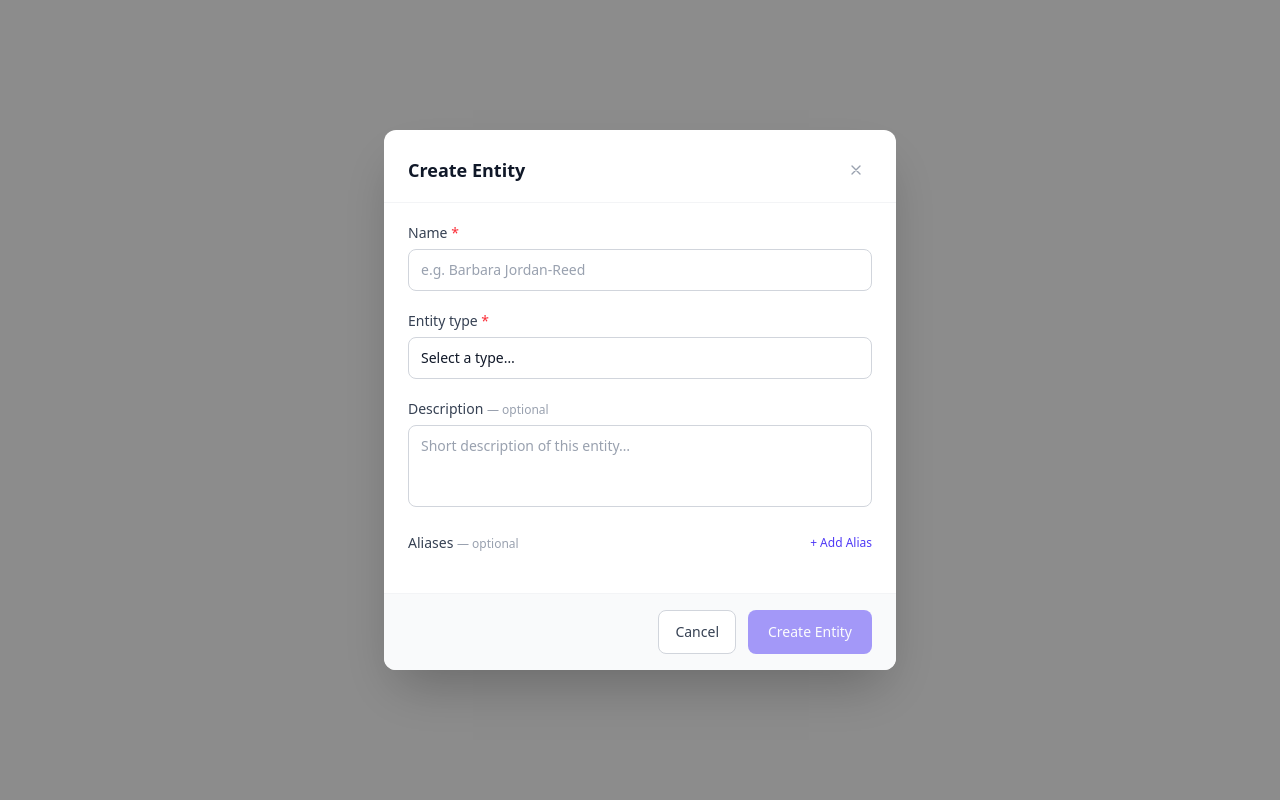
it: CreateEntityModal — suggested entity type (Feature 098, US3) › leaves the selector unset when the suggestion is null
In the dropdown labelled "Name *": (640, 270) [408,249,872,291], type "Test Person"
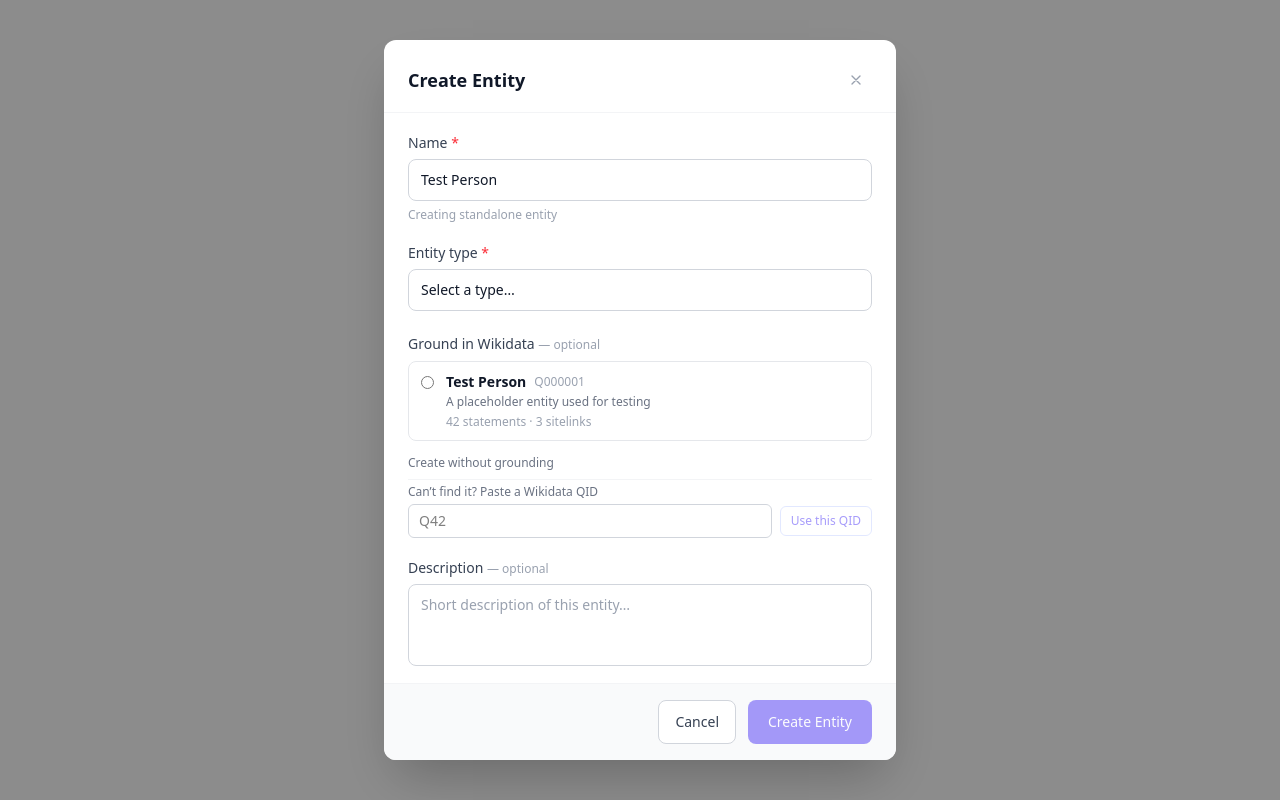
Click the radio button: click(428, 382) [421,376,434,389]
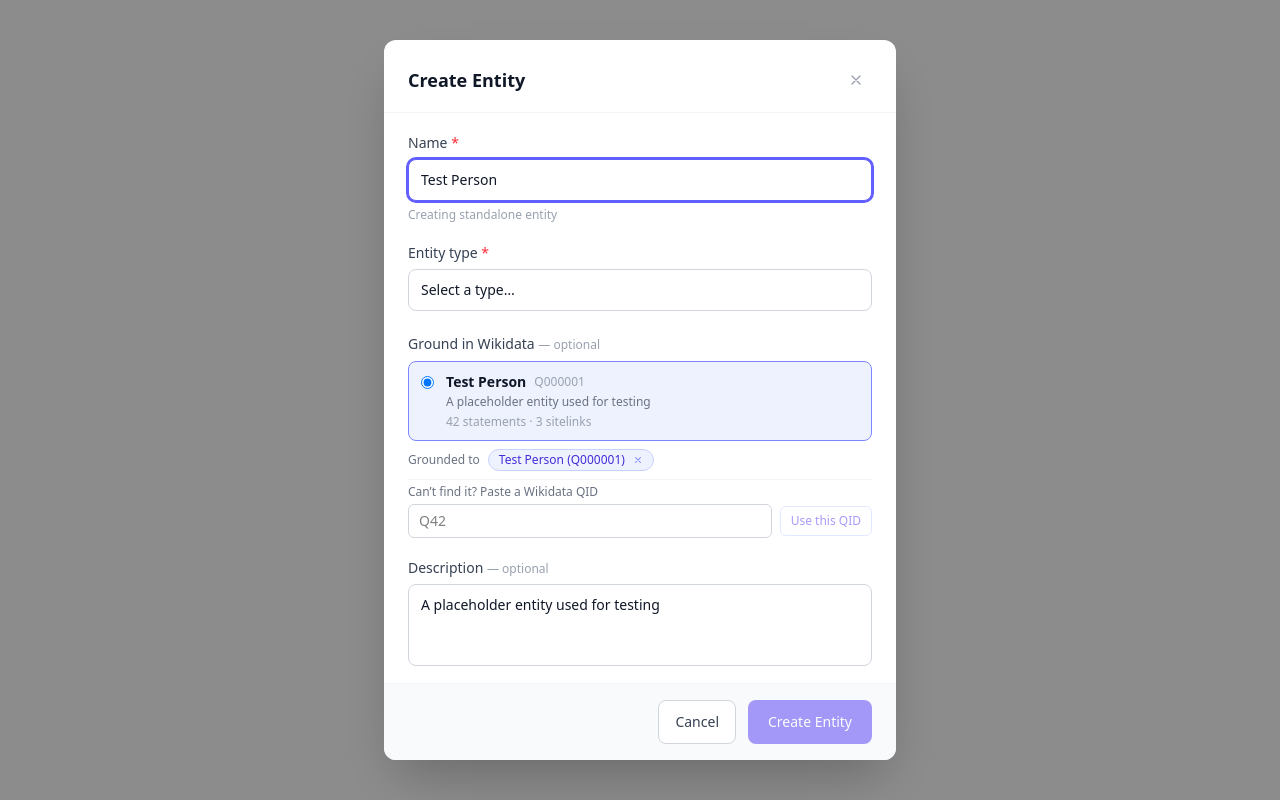
Expected: the dropdown labelled "Entity type *" shows "Select a type…", [408,269,872,311]
Now the text "Grounded to" is shown, box [408,452,480,468]
